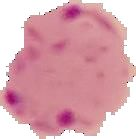parasitized: (30, 10, 124, 136), (59, 2, 122, 54), (34, 90, 95, 128), (6, 75, 55, 121)
